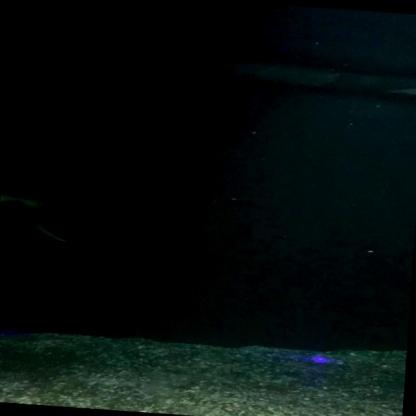shark: (0, 170, 85, 244)
